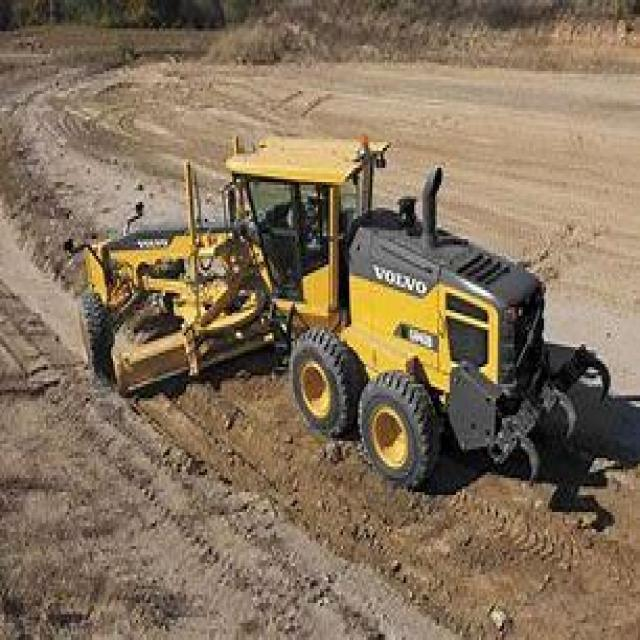buldozerpayloadergrader: (57, 119, 600, 532)
